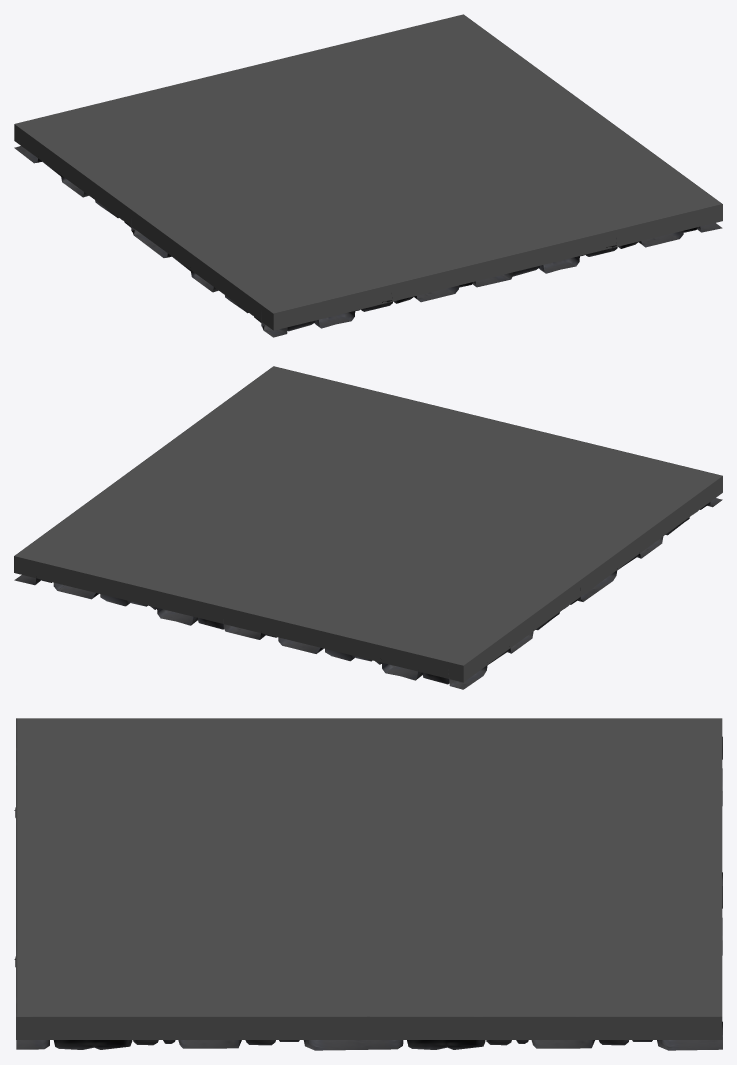
File: Ceiling_cobblewood.fbx
The picture shows the model from 3 angles, top to bottom: view 1: azimuth 30°, elevation 25°; view 2: azimuth 150°, elevation 25°; view 3: azimuth 270°, elevation 25°; orthographic projection. The views are drawn at different scales.
Visible parts, largest first — view 1: Ceiling_Plain_Decimated_Baked; view 2: Ceiling_Plain_Decimated_Baked; view 3: Ceiling_Plain_Decimated_Baked.
Part boxes in pixels (x1,y1,x2,y2): Ceiling_Plain_Decimated_Baked: (14,14,722,337); Ceiling_Plain_Decimated_Baked: (14,366,722,689); Ceiling_Plain_Decimated_Baked: (14,718,722,1050).
Bounding box in the file's own units: 300 × 17.25 × 301.
Materials: 1 (1 with a texture image).
